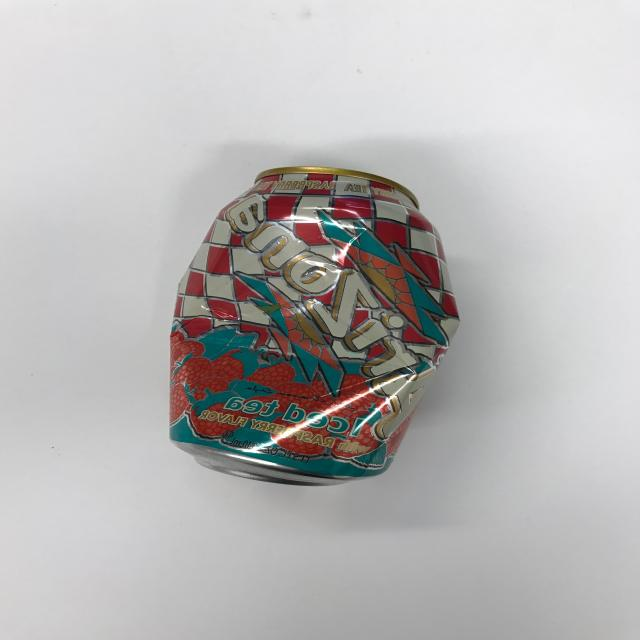metal: (168, 165, 461, 487)
